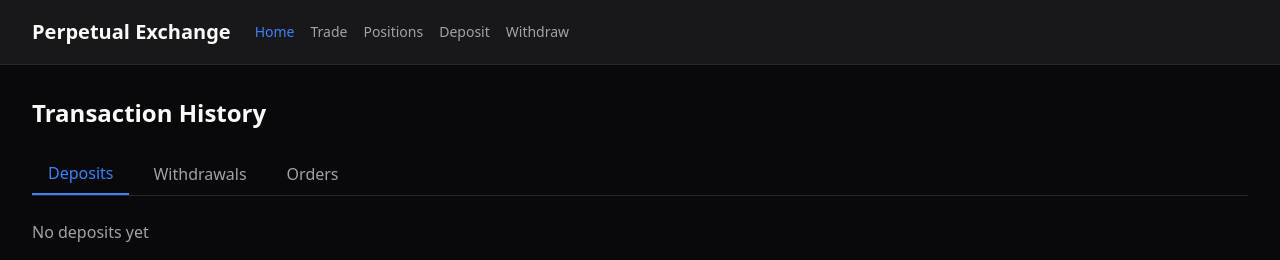
Test: TransactionsPage › should display loading state for orders
Click the button "Orders": (313, 174) [271,153,354,195]
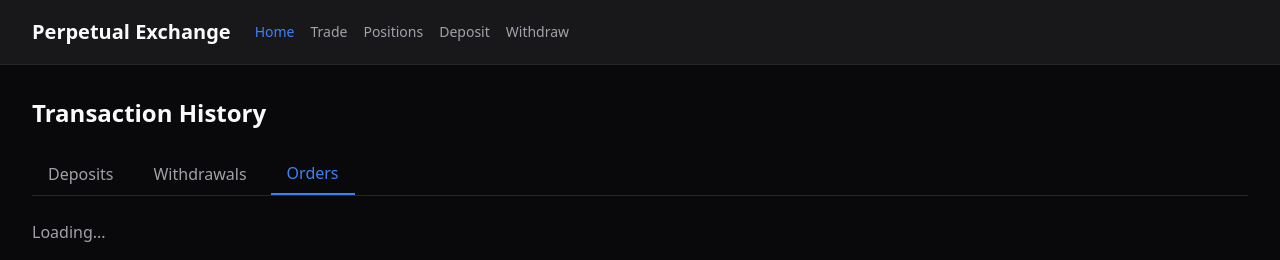
Check: the text "Loading..." is shown, box [32,221,106,243]
